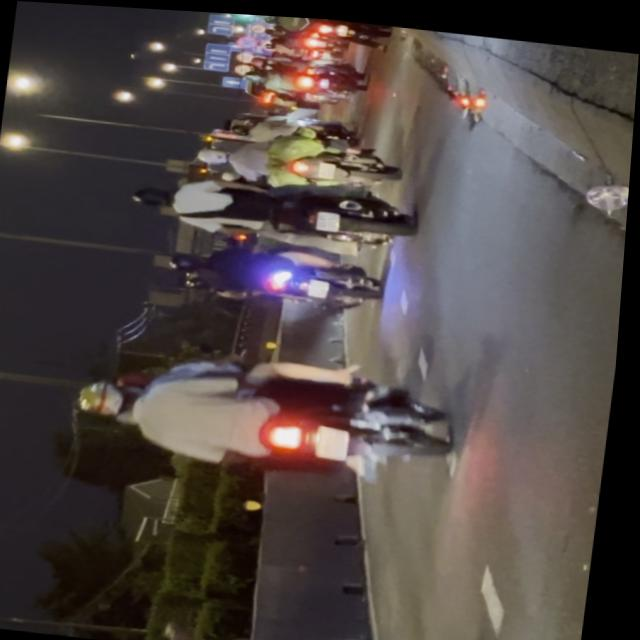helmet: (78, 378, 143, 420), (129, 184, 175, 210)
licenseplate: (71, 336, 466, 489), (125, 160, 422, 255), (0, 598, 543, 640)
nohelmet: (318, 422, 355, 458), (318, 207, 342, 227)
